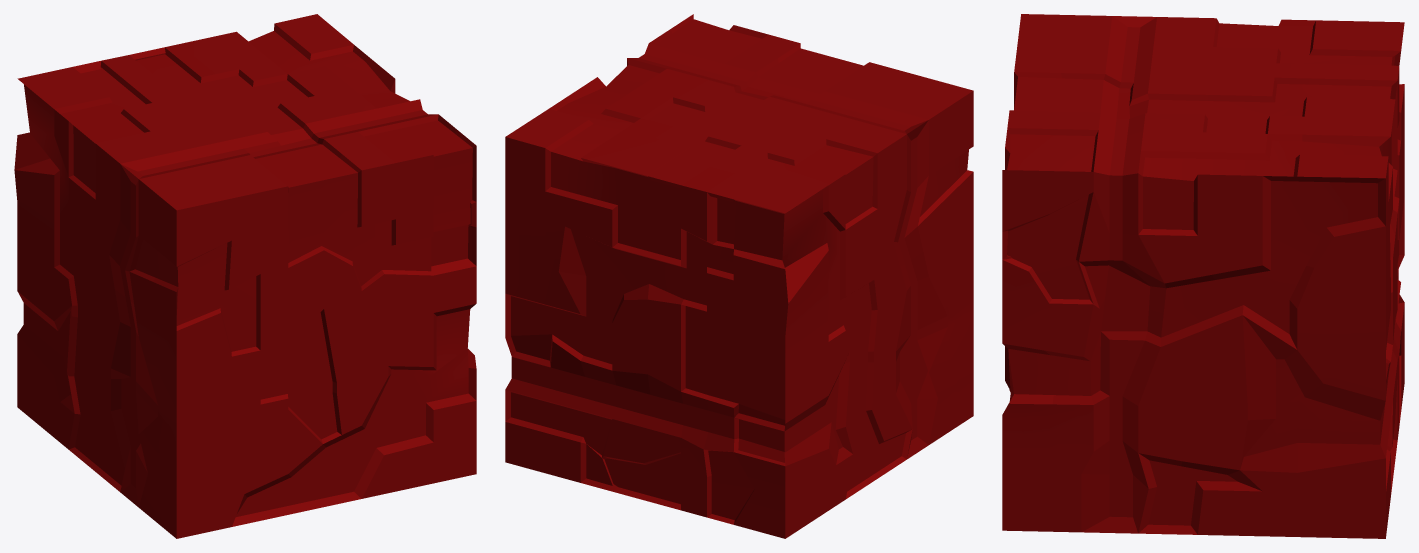
The model's file is RedBlock.fbx.
The picture shows the model from 3 angles, left to right: view 1: azimuth 30°, elevation 25°; view 2: azimuth 150°, elevation 25°; view 3: azimuth 270°, elevation 25°; orthographic projection. The views are drawn at different scales.
Parts seen in each view (by area): view 1: Box001; view 2: Box001; view 3: Box001.
Boxes of the visible parts, left/top/right/bottom form: Box001: left=14, top=14, right=476, bottom=538; Box001: left=505, top=14, right=973, bottom=538; Box001: left=1002, top=14, right=1404, bottom=538.
Size of the model in its own units: 54.03 by 55.3 by 55.91.
